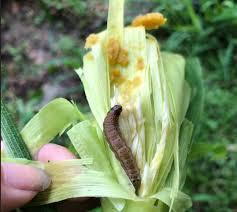fallarmy_worm: (96, 103, 149, 189)
